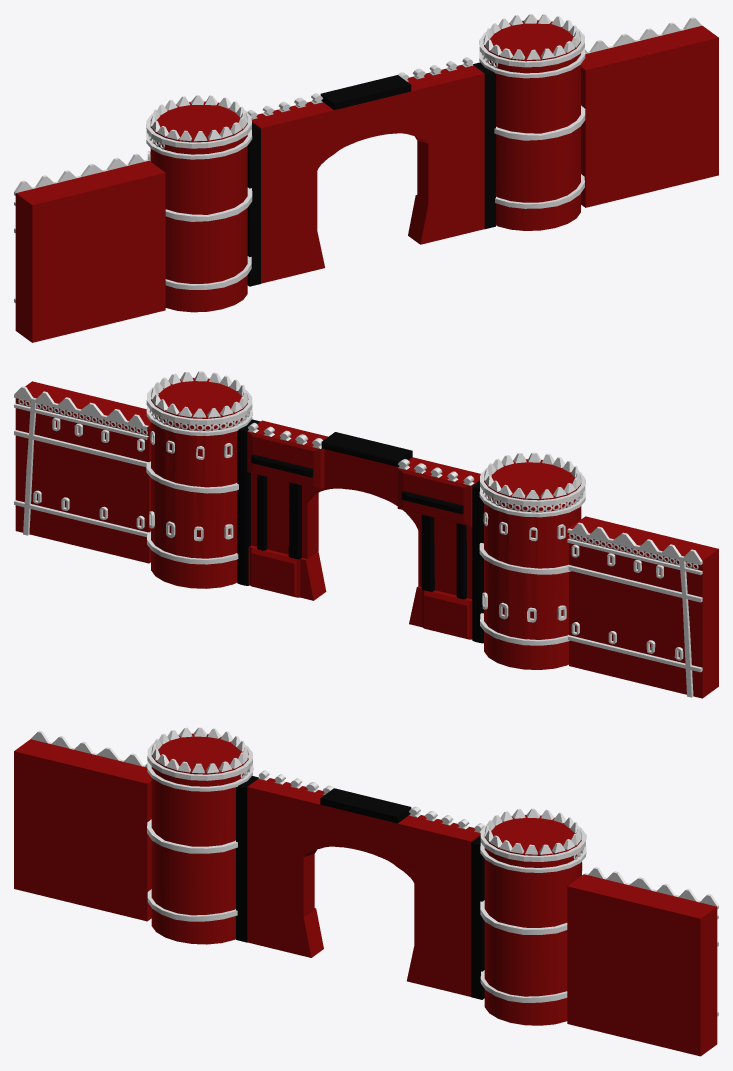
Rendered from Bab_Alyemen.fbx.
3 renders of one model, top to bottom at view 1: azimuth 30°, elevation 25°; view 2: azimuth 150°, elevation 25°; view 3: azimuth 330°, elevation 25°, orthographic.
Parts seen in each view (by area): view 1: BabAlyemen; view 2: BabAlyemen; view 3: BabAlyemen.
Part boxes in pixels (x1=…): BabAlyemen: x1=14, y1=14, x2=718, y2=342; BabAlyemen: x1=14, y1=371, x2=718, y2=698; BabAlyemen: x1=14, y1=727, x2=718, y2=1056.
Bounding box in the file's own units: 2788 × 697 × 354.
